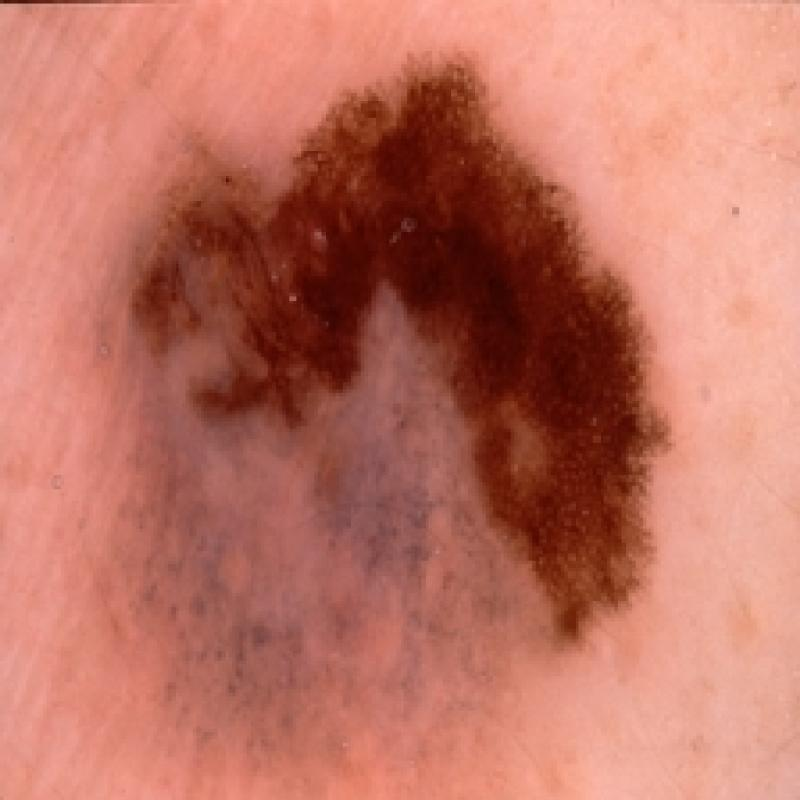malignant: (87, 41, 692, 765)
